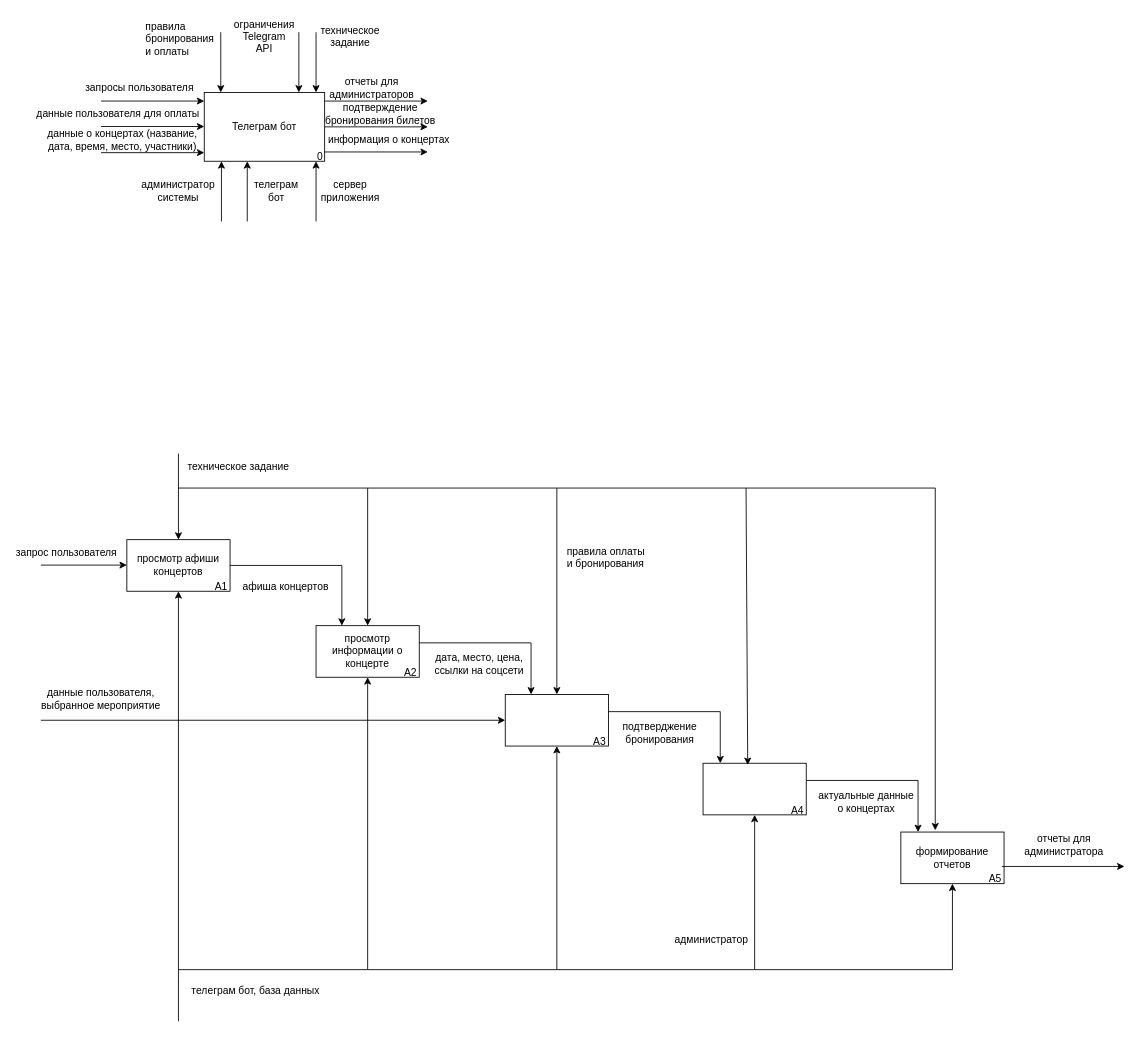
The diagram is 1146 pixels wide and 1043 high, and some of its shapes have lost their labels. The shapes that lost their labels are listed below. From the top down, each one's box as (x1, y1, x2, y2) in pixels, then its label:
(504, 694, 608, 746): бронирование и покупка билетов
(702, 762, 806, 815): управление мероприятиями
